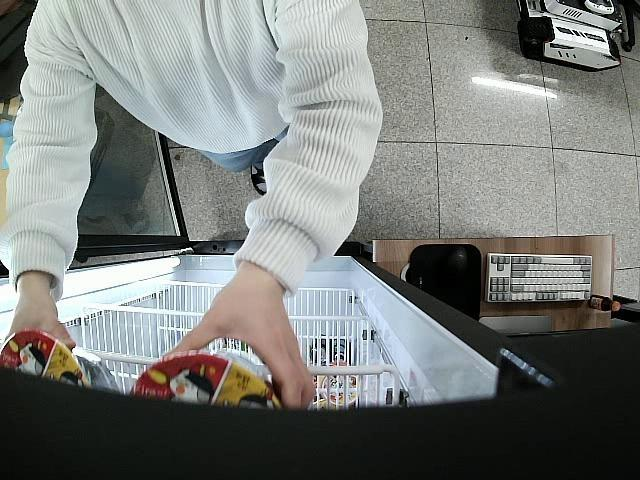07_buldak_L: (130, 348, 286, 411), (0, 329, 123, 394)
